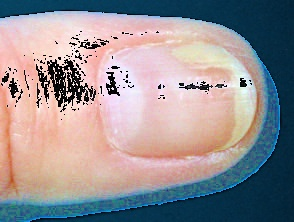Nail_psoriasis: (35, 10, 267, 179)
